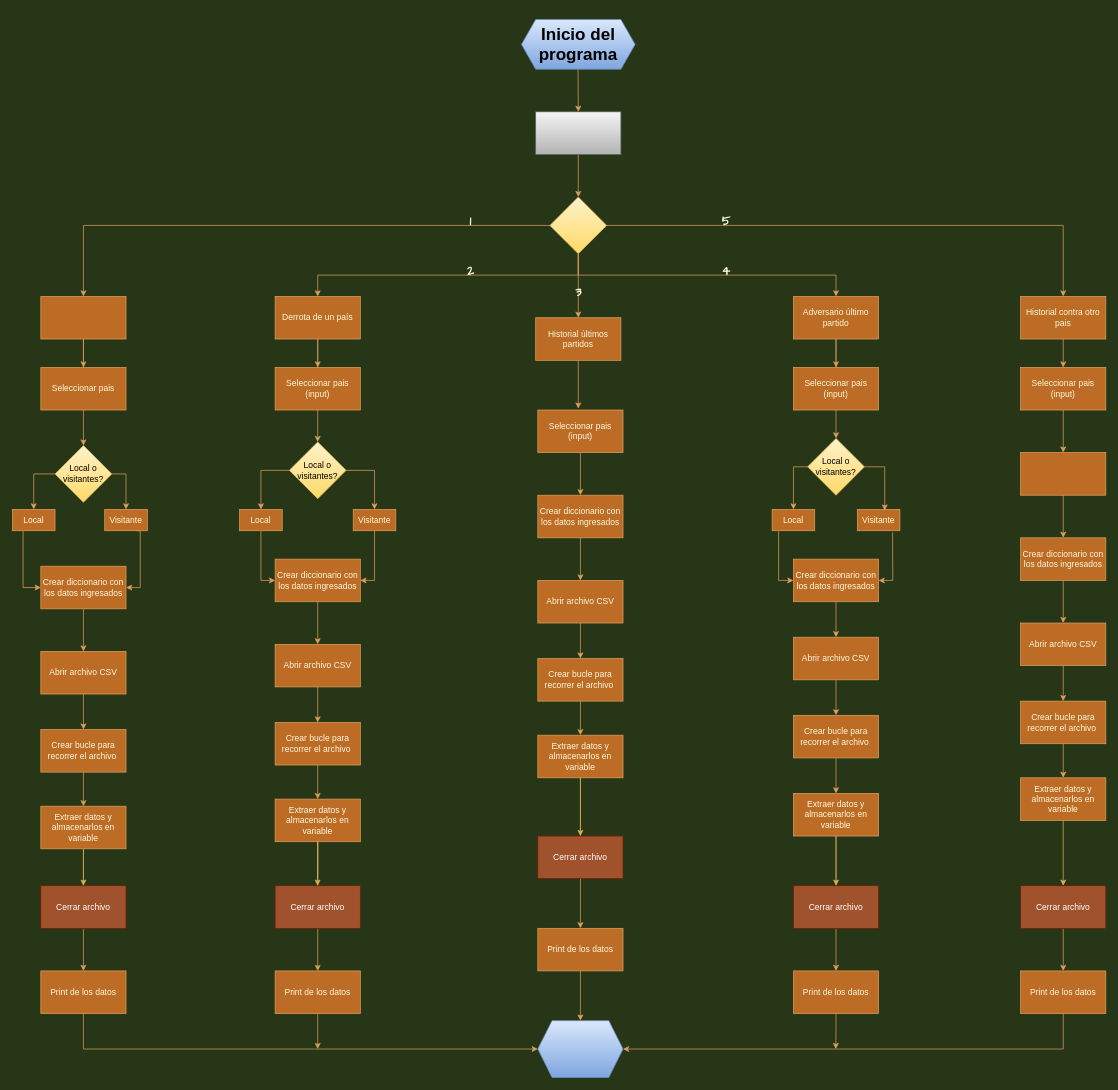
Image size: 1118x1090. Some labels were removed from this diagram. The centre of each missing label's shape, as x and y in pixels:
Consultar opción al usuario: the point at 578,132
inicio: the point at 580,1048
Opción elegida: the point at 578,225
Seleccionar pais adeversario (input): the point at 1063,473
Victorias de país: the point at 83,317
